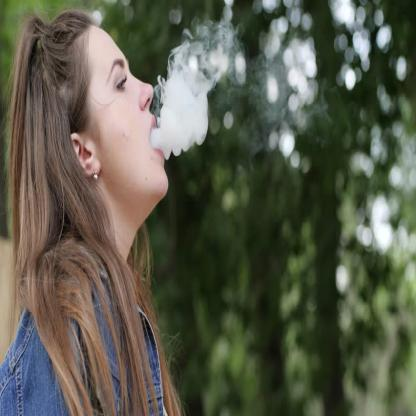person: (0, 13, 166, 416)
smoke: (156, 70, 210, 161), (174, 24, 242, 85)
